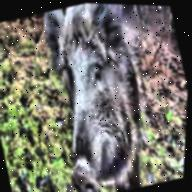boar: (26, 1, 173, 192)
